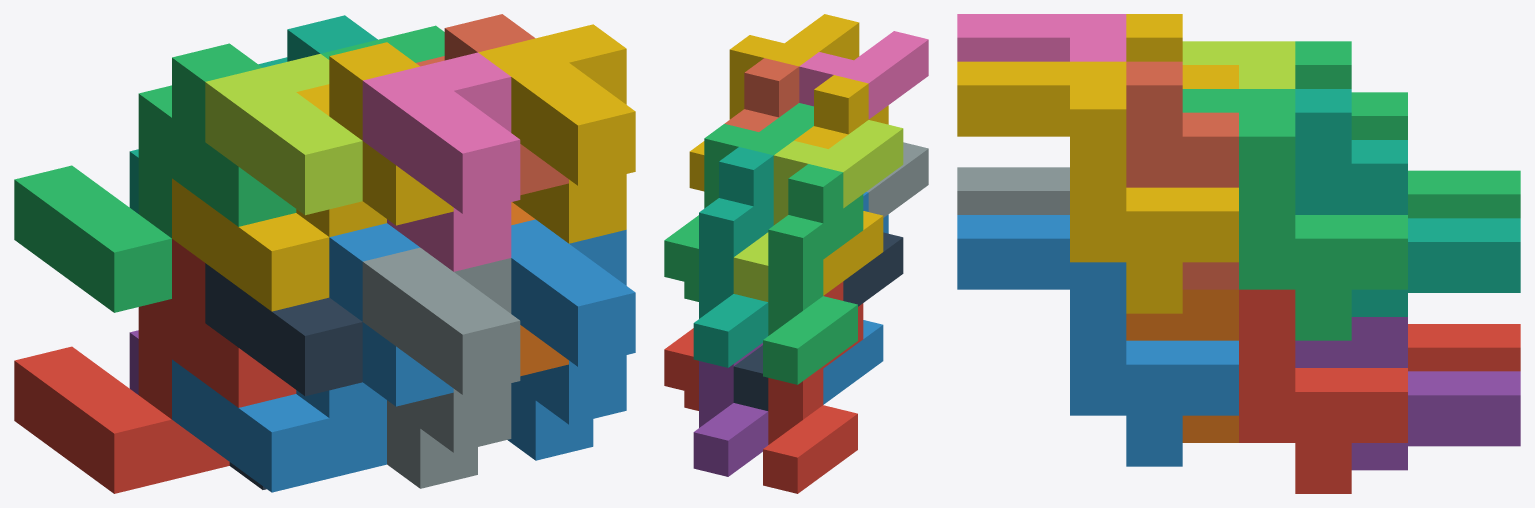
Rendered from tiling.obj.
3 renders of one model, left to right at view 1: azimuth 30°, elevation 25°; view 2: azimuth 150°, elevation 25°; view 3: azimuth 270°, elevation 25°, orthographic. The views are drawn at different scales.
Parts seen in each view (by area): view 1: copy_1_domain_3, copy_1_domain_1, copy_2_domain_2, copy_1_domain_2, copy_2_domain_4, copy_2_domain_6, copy_2_domain_8, copy_1_domain_4, copy_2_domain_3, copy_2_domain_1, copy_1_domain_8, copy_1_domain_7 (+2 smaller); view 2: copy_1_domain_3, copy_1_domain_7, copy_1_domain_1, copy_2_domain_3, copy_1_domain_4, copy_1_domain_5, copy_2_domain_7, copy_2_domain_4, copy_2_domain_8, copy_2_domain_1, copy_1_domain_8, copy_1_domain_2 (+2 smaller); view 3: copy_2_domain_8, copy_2_domain_6, copy_2_domain_7, copy_1_domain_7, copy_2_domain_5, copy_1_domain_5, copy_1_domain_8, copy_1_domain_3, copy_2_domain_4, copy_1_domain_6, copy_1_domain_1, copy_2_domain_2 (+2 smaller).
Boxes of the visible parts, bbox=[...] form: copy_1_domain_3: bbox=[14, 43, 296, 312]; copy_1_domain_1: bbox=[14, 239, 296, 493]; copy_2_domain_2: bbox=[362, 247, 520, 488]; copy_1_domain_2: bbox=[172, 223, 453, 492]; copy_2_domain_4: bbox=[362, 52, 520, 271]; copy_2_domain_6: bbox=[507, 219, 635, 460]; copy_2_domain_8: bbox=[478, 24, 635, 243]; copy_1_domain_4: bbox=[172, 42, 453, 311]; copy_2_domain_3: bbox=[205, 54, 362, 215]; copy_2_domain_1: bbox=[205, 263, 362, 489]; copy_1_domain_8: bbox=[416, 14, 568, 195]; copy_1_domain_7: bbox=[129, 15, 377, 213]; copy_1_domain_3: bbox=[763, 164, 863, 384]; copy_1_domain_7: bbox=[693, 147, 773, 367]; copy_1_domain_1: bbox=[763, 281, 863, 493]; copy_2_domain_3: bbox=[733, 120, 903, 301]; copy_1_domain_4: bbox=[794, 75, 888, 295]; copy_1_domain_5: bbox=[693, 343, 768, 476]; copy_2_domain_7: bbox=[664, 103, 813, 301]; copy_2_domain_4: bbox=[799, 31, 928, 119]; copy_2_domain_8: bbox=[689, 14, 859, 191]; copy_2_domain_1: bbox=[733, 232, 903, 410]; copy_1_domain_8: bbox=[724, 58, 799, 131]; copy_1_domain_2: bbox=[823, 192, 888, 404]; copy_2_domain_8: bbox=[957, 61, 1238, 313]; copy_2_domain_6: bbox=[957, 215, 1238, 466]; copy_2_domain_7: bbox=[1182, 89, 1407, 340]; copy_1_domain_7: bbox=[1295, 89, 1520, 316]; copy_2_domain_5: bbox=[1239, 289, 1407, 493]; copy_1_domain_5: bbox=[1295, 317, 1520, 470]; copy_1_domain_8: bbox=[1126, 61, 1238, 289]; copy_1_domain_3: bbox=[1295, 41, 1520, 218]; copy_2_domain_4: bbox=[957, 14, 1126, 61]; copy_1_domain_6: bbox=[1126, 289, 1238, 442]; copy_1_domain_1: bbox=[1408, 324, 1520, 371]; copy_2_domain_2: bbox=[957, 167, 1069, 214].
Size of the model in its own units: 6 by 8 by 10.
